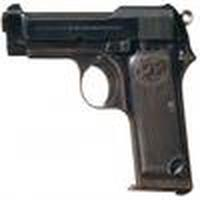gun: (3, 5, 193, 193)
